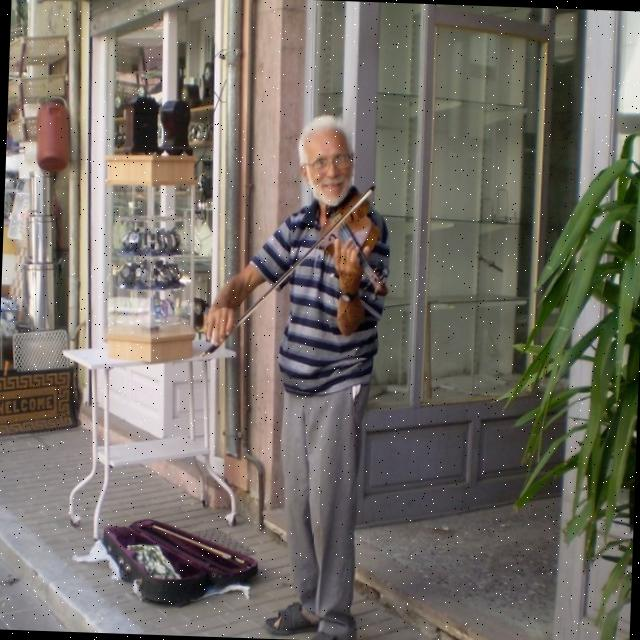violin: (312, 187, 398, 300)
